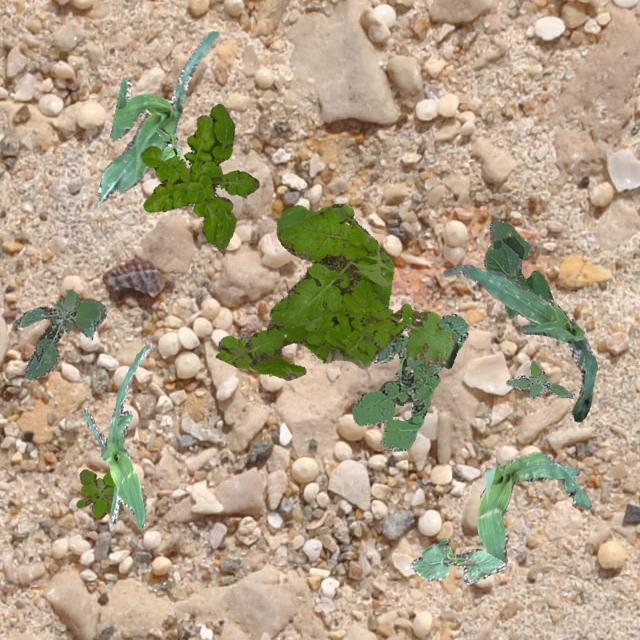crop: (442, 264, 596, 421), (96, 30, 218, 202), (81, 342, 150, 528), (476, 452, 590, 564), (482, 218, 552, 318), (410, 538, 504, 584)
weed: (215, 202, 457, 380), (140, 102, 258, 248), (352, 312, 468, 450), (14, 288, 104, 378), (506, 360, 574, 398), (76, 468, 122, 518), (154, 125, 180, 158), (237, 331, 250, 344)
